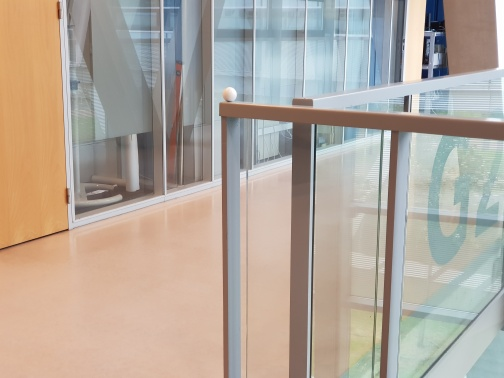egg: (220, 85, 239, 103)
